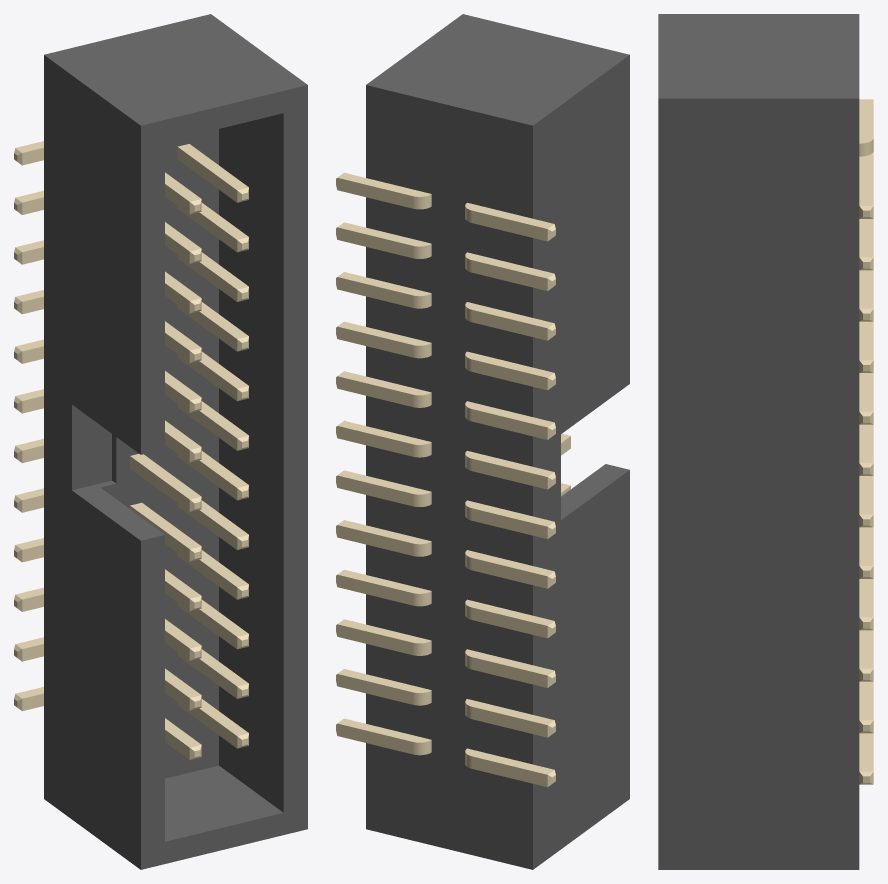
Rendered from IDC-Header_2x12_P2.54mm_Vertical_SMD.glb.
3 renders of one model, left to right at view 1: azimuth 30°, elevation 25°; view 2: azimuth 150°, elevation 25°; view 3: azimuth 270°, elevation 25°, orthographic. The views are drawn at different scales.
Visible parts, largest first — view 1: Shape_IndexedFaceSet.001, Shape_IndexedFaceSet, Shape_IndexedFaceSet.005, Shape_IndexedFaceSet.027, Shape_IndexedFaceSet.009, Shape_IndexedFaceSet.004, Shape_IndexedFaceSet.025, Shape_IndexedFaceSet.002, Shape_IndexedFaceSet.217, Shape_IndexedFaceSet.144, Shape_IndexedFaceSet.143, Shape_IndexedFaceSet.216 (+12 smaller); view 2: Shape_IndexedFaceSet.012, Shape_IndexedFaceSet.001, Shape_IndexedFaceSet.009, Shape_IndexedFaceSet.002, Shape_IndexedFaceSet.248, Shape_IndexedFaceSet.236, Shape_IndexedFaceSet.242, Shape_IndexedFaceSet.254, Shape_IndexedFaceSet.260, Shape_IndexedFaceSet.272, Shape_IndexedFaceSet.293, Shape_IndexedFaceSet.299 (+40 smaller); view 3: Shape_IndexedFaceSet.010, Shape_IndexedFaceSet.009, Shape_IndexedFaceSet.111, Shape_IndexedFaceSet.040, Shape_IndexedFaceSet.049, Shape_IndexedFaceSet.070, Shape_IndexedFaceSet.043, Shape_IndexedFaceSet.046, Shape_IndexedFaceSet.052, Shape_IndexedFaceSet.055, Shape_IndexedFaceSet.058, Shape_IndexedFaceSet.061 (+3 smaller).
Part boxes in pixels (x1,y1,x2,y2): Shape_IndexedFaceSet.001: (44,55,140,869); Shape_IndexedFaceSet: (141,85,307,869); Shape_IndexedFaceSet.005: (219,113,283,812); Shape_IndexedFaceSet.027: (101,129,218,778); Shape_IndexedFaceSet.009: (44,14,307,125); Shape_IndexedFaceSet.004: (165,765,283,841); Shape_IndexedFaceSet.025: (72,405,111,490); Shape_IndexedFaceSet.002: (72,480,164,540); Shape_IndexedFaceSet.217: (177,147,237,202); Shape_IndexedFaceSet.144: (130,456,189,511); Shape_IndexedFaceSet.143: (130,502,201,548); Shape_IndexedFaceSet.216: (178,144,248,190); Shape_IndexedFaceSet.012: (366,85,532,869); Shape_IndexedFaceSet.001: (533,55,629,869); Shape_IndexedFaceSet.009: (366,14,629,125); Shape_IndexedFaceSet.002: (561,464,629,519); Shape_IndexedFaceSet.248: (337,426,412,456); Shape_IndexedFaceSet.236: (337,227,412,258); Shape_IndexedFaceSet.242: (337,326,412,357); Shape_IndexedFaceSet.254: (337,525,412,555); Shape_IndexedFaceSet.260: (337,624,412,654); Shape_IndexedFaceSet.272: (472,707,547,737); Shape_IndexedFaceSet.293: (472,359,547,390); Shape_IndexedFaceSet.299: (472,260,547,290); Shape_IndexedFaceSet.010: (658,98,859,869); Shape_IndexedFaceSet.009: (658,14,859,98); Shape_IndexedFaceSet.111: (859,99,873,143); Shape_IndexedFaceSet.040: (859,161,873,205); Shape_IndexedFaceSet.049: (859,321,873,360); Shape_IndexedFaceSet.070: (859,681,873,720); Shape_IndexedFaceSet.043: (859,219,873,257); Shape_IndexedFaceSet.046: (859,270,873,308); Shape_IndexedFaceSet.052: (859,373,873,411); Shape_IndexedFaceSet.055: (859,424,873,462); Shape_IndexedFaceSet.058: (859,476,873,514); Shape_IndexedFaceSet.061: (859,527,873,565).
Size of the model in its own units: 4.57 by 15 by 3.8.
